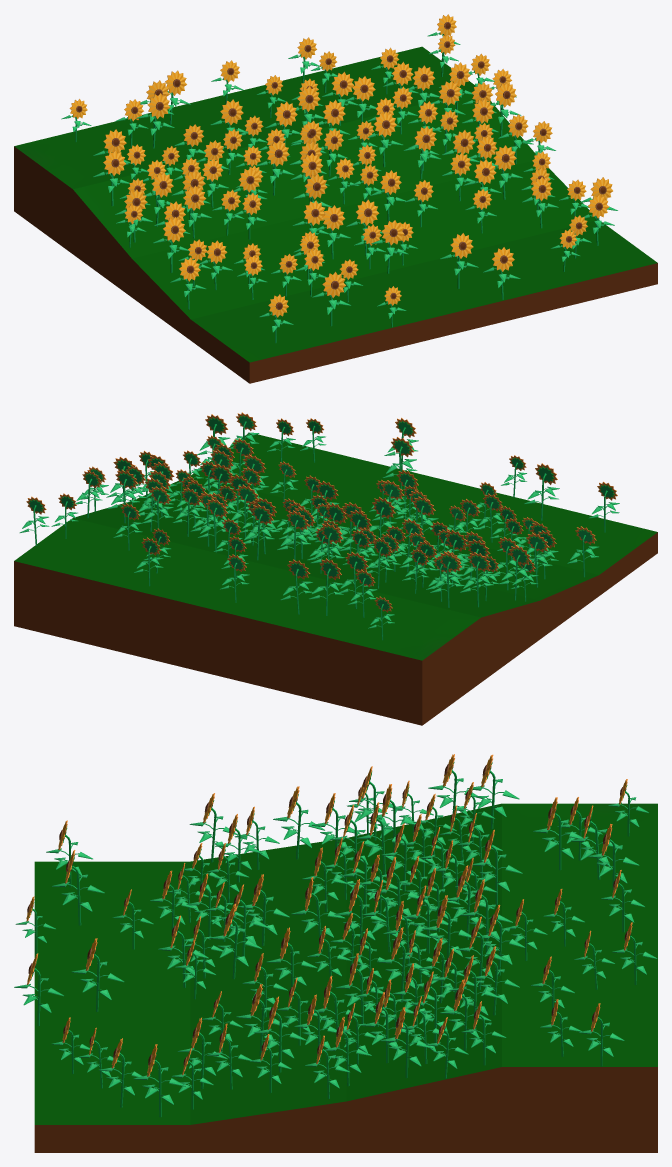
The model's file is Girassol_Campo_Low-Poly.fbx.
3 views of the same model, one above another, from view 1: azimuth 30°, elevation 25°; view 2: azimuth 150°, elevation 25°; view 3: azimuth 270°, elevation 25° (orthographic). The views are drawn at different scales.
Parts seen in each view (by area): view 1: Solo.001, Solo, Cube.003, Cube.026, Cube.040, Cube.012, Cube.042, Cube.096, Cube.002, Cube.059, Cube.094, Cube.090 (+15 smaller); view 2: Solo.001, Solo, Cube.003, Cube.047, Cube.042, Cube.029, Cube.015, Cube.020, Cube.068, Cube.012, Cube.064, Cube.060 (+17 smaller); view 3: Solo.001, Solo, Cube.012, Cube.026, Cube.084, Cube.072, Cube.096, Cube.006, Cube.047, Cube.003, Cube.064, Cube.106 (+29 smaller).
Part boxes in pixels (left/top/right/bottom): Solo.001: left=14, top=46, right=657, bottom=362; Solo: left=14, top=146, right=657, bottom=383; Cube.003: left=312, top=271, right=351, bottom=326; Cube.026: left=136, top=93, right=174, bottom=148; Cube.040: left=256, top=140, right=294, bottom=195; Cube.012: left=440, top=233, right=478, bottom=288; Cube.042: left=93, top=150, right=129, bottom=206; Cube.096: left=153, top=217, right=188, bottom=272; Cube.002: left=371, top=220, right=408, bottom=273; Cube.059: left=368, top=111, right=402, bottom=167; Cube.094: left=316, top=205, right=350, bottom=259; Cube.090: left=493, top=145, right=522, bottom=199; Solo.001: left=14, top=433, right=657, bottom=660; Solo: left=14, top=532, right=657, bottom=725; Cube.003: left=524, top=463, right=559, bottom=520; Cube.047: left=430, top=552, right=464, bottom=607; Cube.042: left=459, top=552, right=493, bottom=607; Cube.029: left=243, top=504, right=275, bottom=560; Cube.015: left=309, top=558, right=343, bottom=615; Cube.020: left=280, top=559, right=312, bottom=614; Cube.068: left=277, top=510, right=311, bottom=560; Cube.012: left=383, top=437, right=417, bottom=492; Cube.064: left=310, top=523, right=345, bottom=579; Cube.060: left=498, top=545, right=531, bottom=600; Solo.001: left=34, top=803, right=657, bottom=1124; Solo: left=34, top=1067, right=657, bottom=1152; Cube.012: left=72, top=938, right=124, bottom=1011; Cube.026: left=533, top=797, right=582, bottom=870; Cube.084: left=209, top=903, right=261, bottom=979; Cube.072: left=380, top=1007, right=432, bottom=1078; Cube.096: left=273, top=786, right=324, bottom=859; Cube.006: left=133, top=1044, right=185, bottom=1117; Cube.047: left=467, top=754, right=519, bottom=829; Cube.003: left=52, top=850, right=104, bottom=925; Cube.064: left=473, top=829, right=522, bottom=904; Cube.106: left=238, top=874, right=289, bottom=945.
Bounding box in the file's own units: 6201 × 1659 × 6100.
Materials: 1 (1 with a texture image).
